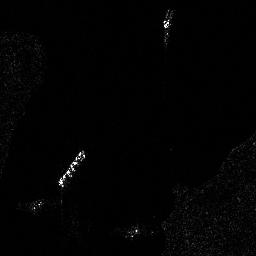ship: (57, 150, 86, 187), (162, 7, 175, 28)
